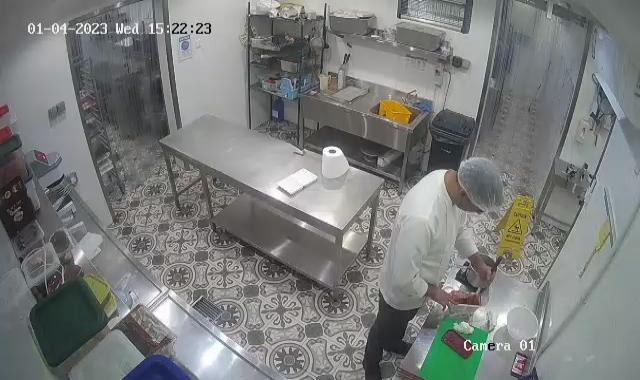hairnet: (456, 156, 504, 214)
